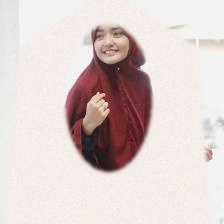Mukena: (0, 22, 217, 224)
